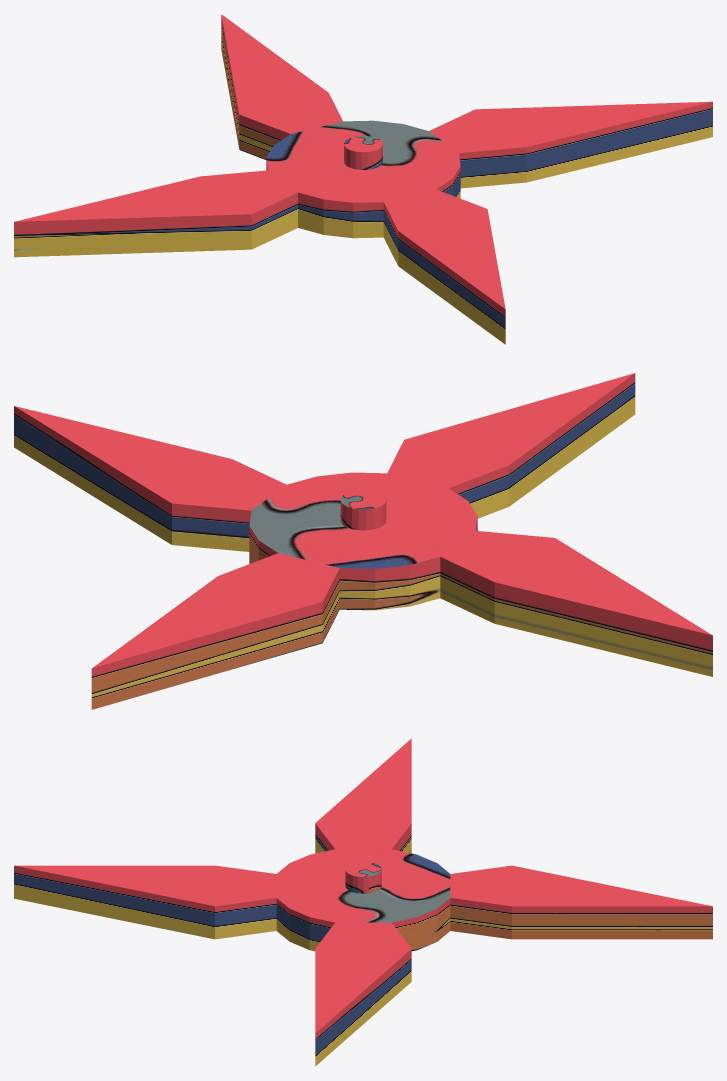
Rendered from building6.fbx.
3 renders of one model, top to bottom at view 1: azimuth 30°, elevation 25°; view 2: azimuth 150°, elevation 25°; view 3: azimuth 270°, elevation 25°, orthographic. The views are drawn at different scales.
Parts seen in each view (by area): view 1: pCylinder13; view 2: pCylinder13; view 3: pCylinder13.
Part boxes in pixels (x1=…): pCylinder13: x1=14, y1=14, x2=712, y2=344; pCylinder13: x1=14, y1=373, x2=712, y2=709; pCylinder13: x1=14, y1=738, x2=712, y2=1066.
Size of the model in its own units: 7.65 by 0.8 by 7.65.
Materials: 1 (1 with a texture image).
